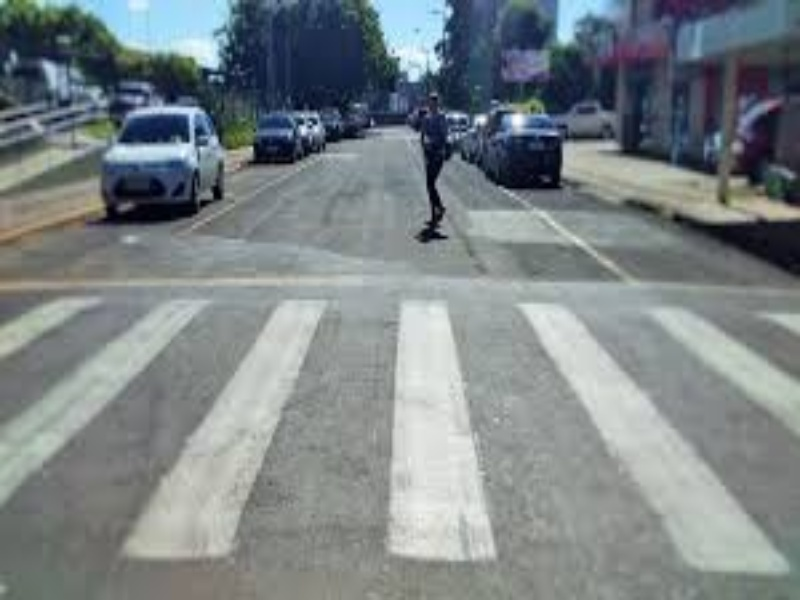zebra cross: (1, 295, 796, 579)
